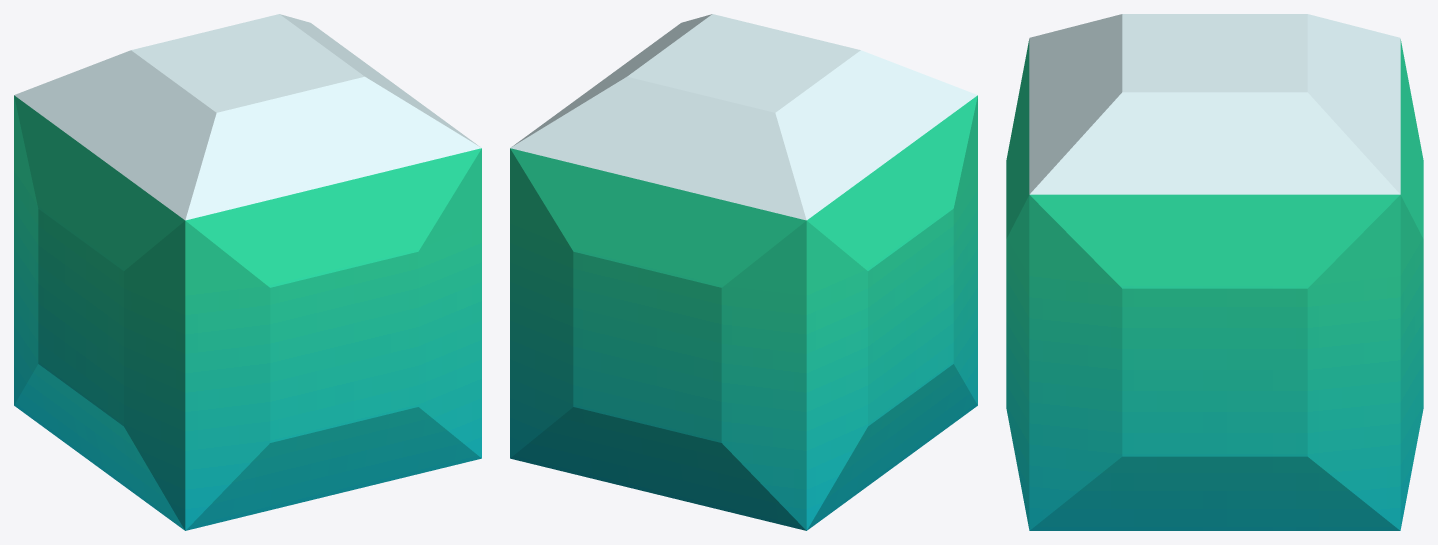
File: ice-wall.gltf
3 renders of one model, left to right at view 1: azimuth 30°, elevation 25°; view 2: azimuth 150°, elevation 25°; view 3: azimuth 270°, elevation 25°, orthographic. The views are drawn at different scales.
Parts seen in each view (by area): view 1: ice; view 2: ice; view 3: ice.
Part boxes in pixels (x1,y1,x2,y2): ice: [14, 14, 481, 530]; ice: [510, 14, 977, 530]; ice: [1006, 14, 1423, 530].
Size of the model in its own units: 1.12 by 1.19 by 1.12.
Materials: 1 (1 with a texture image).
